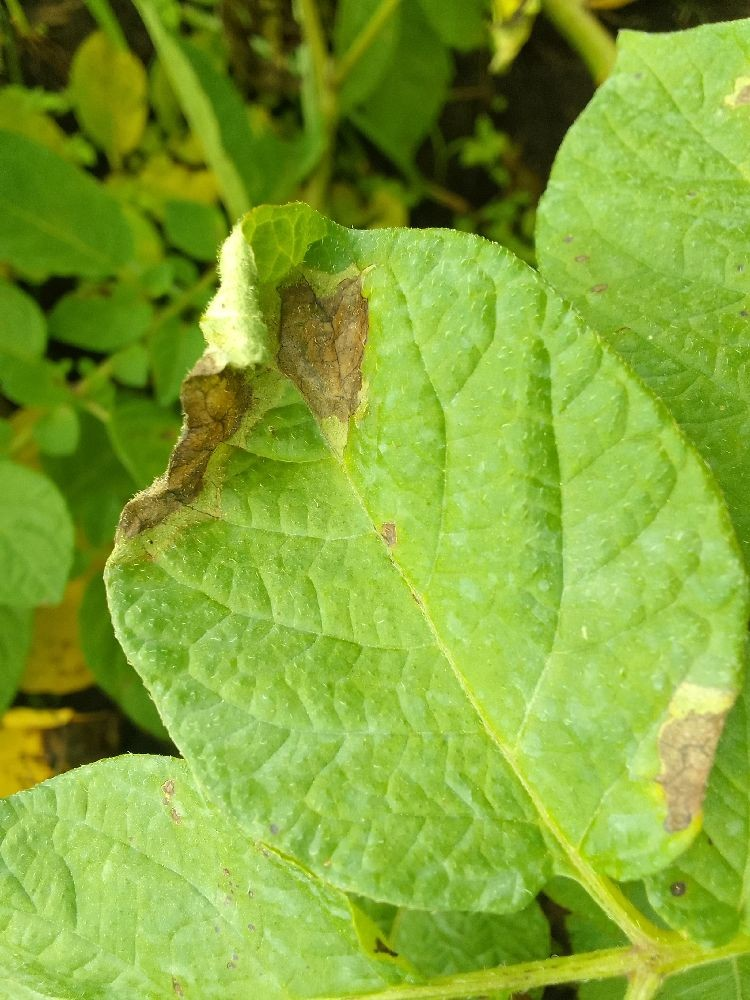late_blight: (102, 261, 387, 556), (393, 0, 628, 265), (0, 493, 158, 829), (0, 0, 117, 109)
